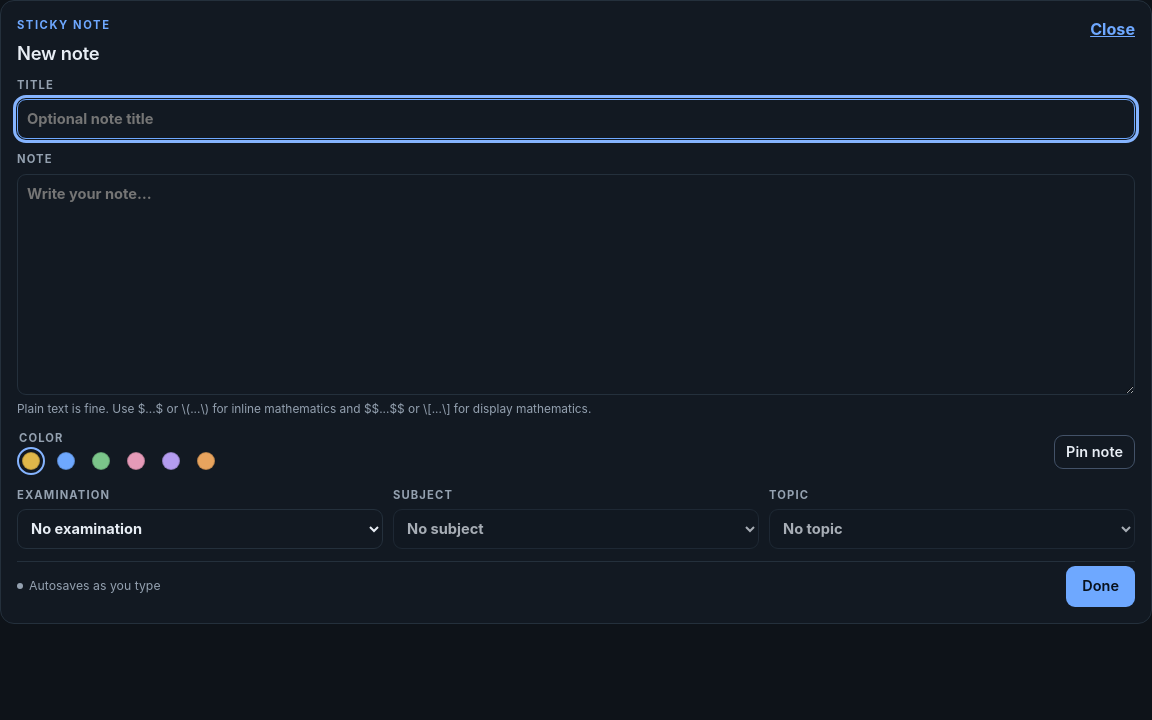
Test: NoteEditor › shows exactly one save alert and retries successfully
Type "Retry note" into the field labelled "Title" at (576, 119), box [17,99,1135,139]
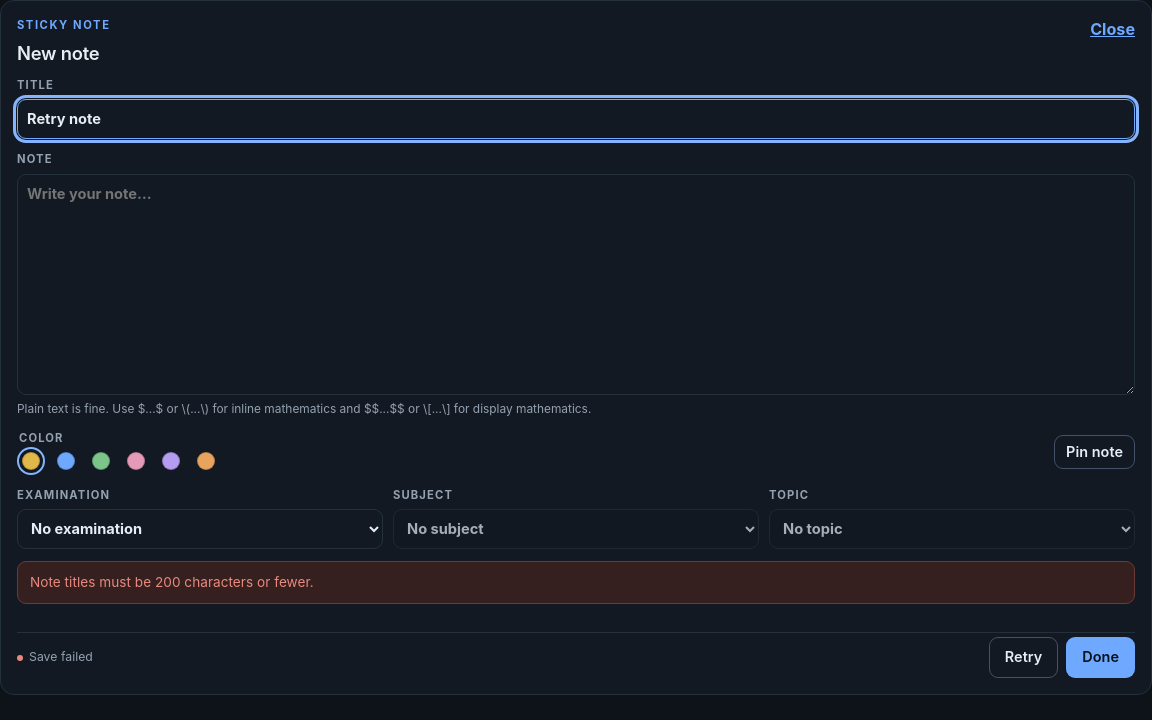
expect the message reads "Note titles must be 200 characters or fewer.": met, box [30,574,314,590]
expect the number of messages is 1: met, box [17,561,1135,604]
Click the button "Retry" at (1024, 658), box [989,637,1058,678]
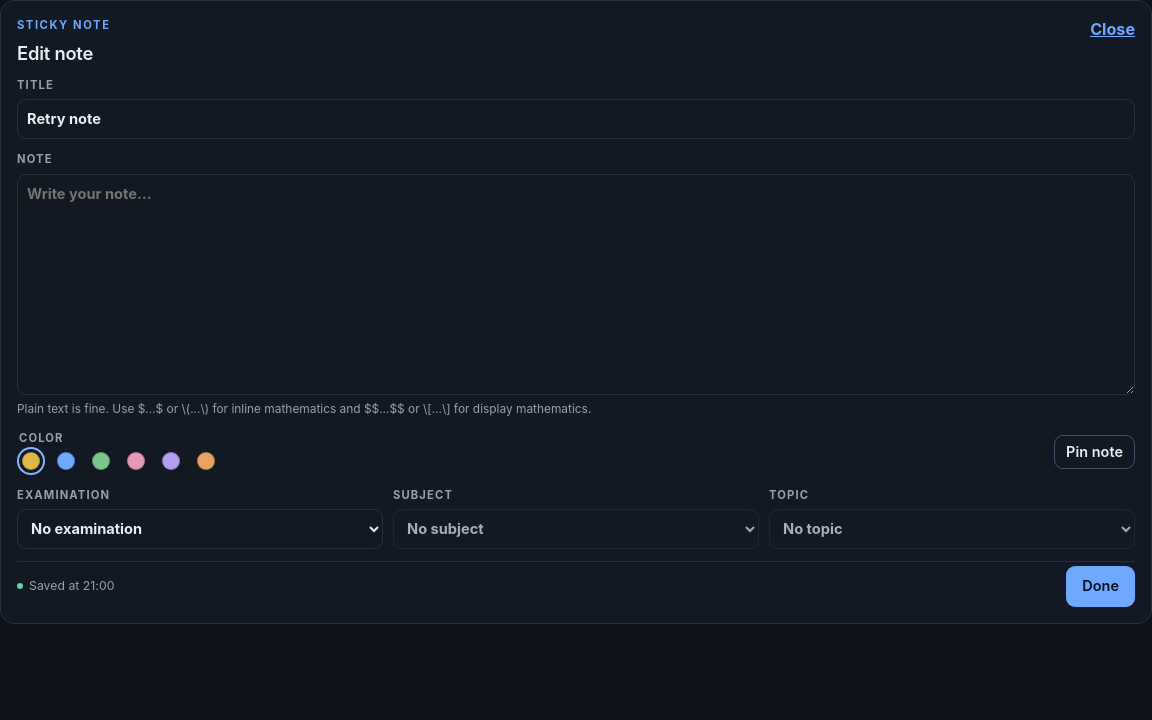
expect the message "Note titles must be 200 characters or fewer." is gone: met
expect the text "Saved at 21:00" is shown: met, box [17,577,114,596]
